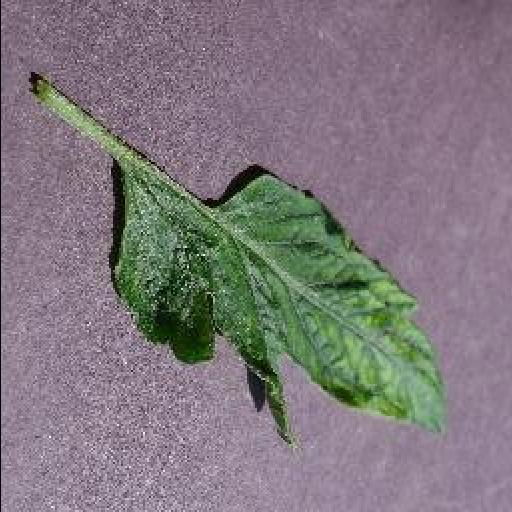Mosaic Virus: (110, 154, 449, 448)
